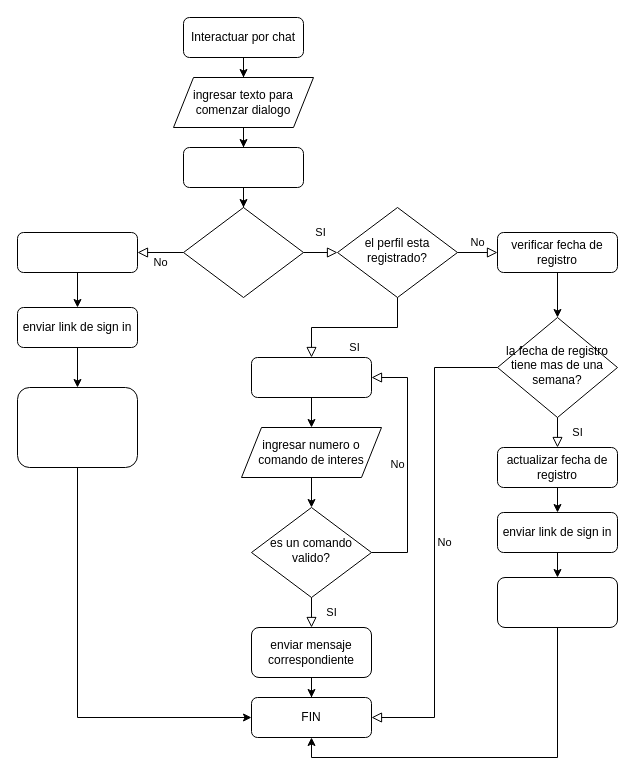
The diagram is 635 pixels wide and 783 high, and some of its shapes have lost their labels. The centre of each missing label's shape, as x and y in pixels:
el numero esta registrado?: the point at 243,252
enviar aviso de no respueta a usuarios sin perfil: the point at 557,602
enviar mensaje de opciones: the point at 311,377
enviar msg aviso "no puedo conocer los intereses de usuarios no registrados": the point at 77,427
registrar numero: the point at 77,252
verificar numero: the point at 243,167
